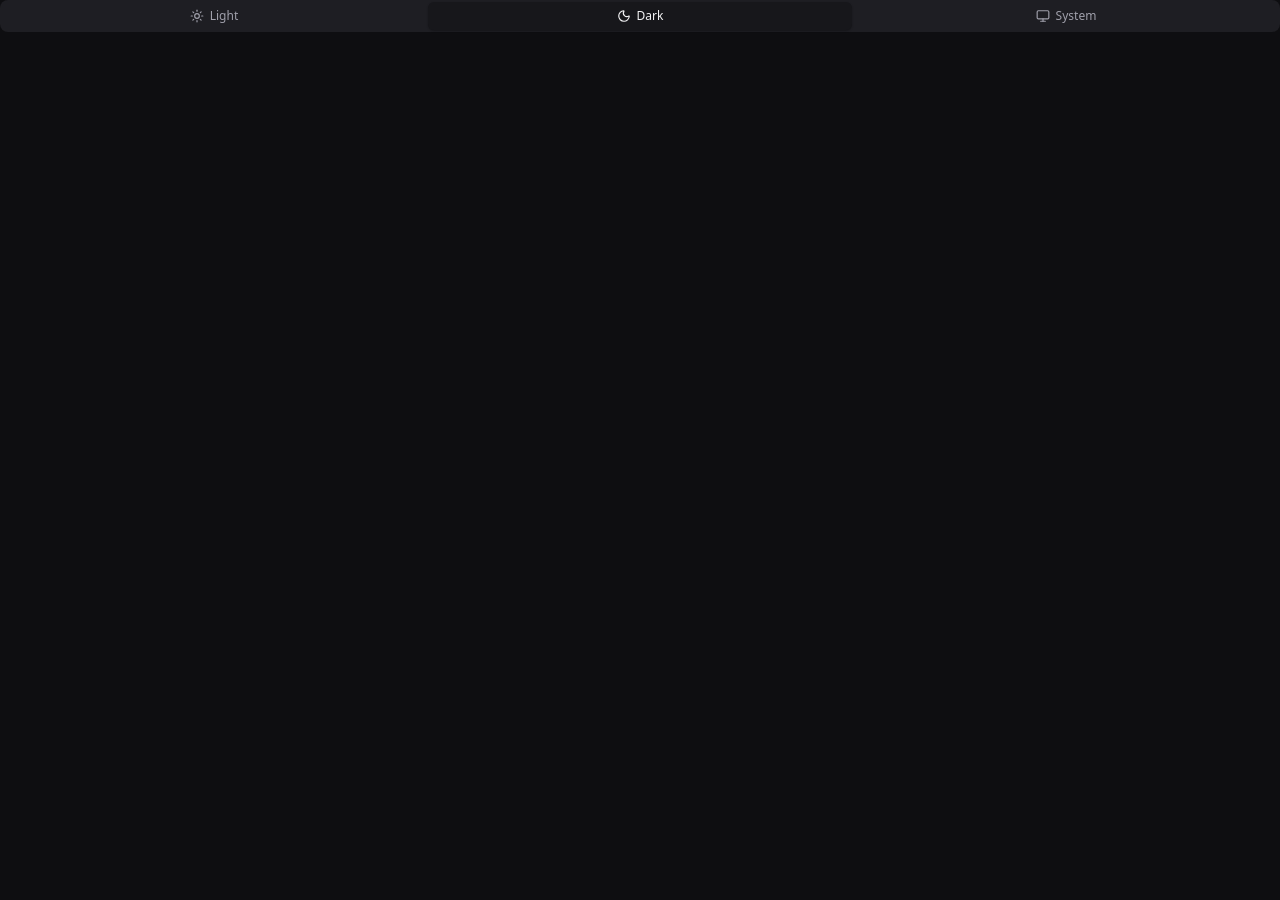
Test case: ThemeToggle › offers light, dark and system in the segmented control
Expected: the radio button labelled "Dark" is checked, left=428, top=2, right=852, bottom=30
Click the radio button labelled "System" at [1066, 16], box left=854, top=2, right=1278, bottom=30
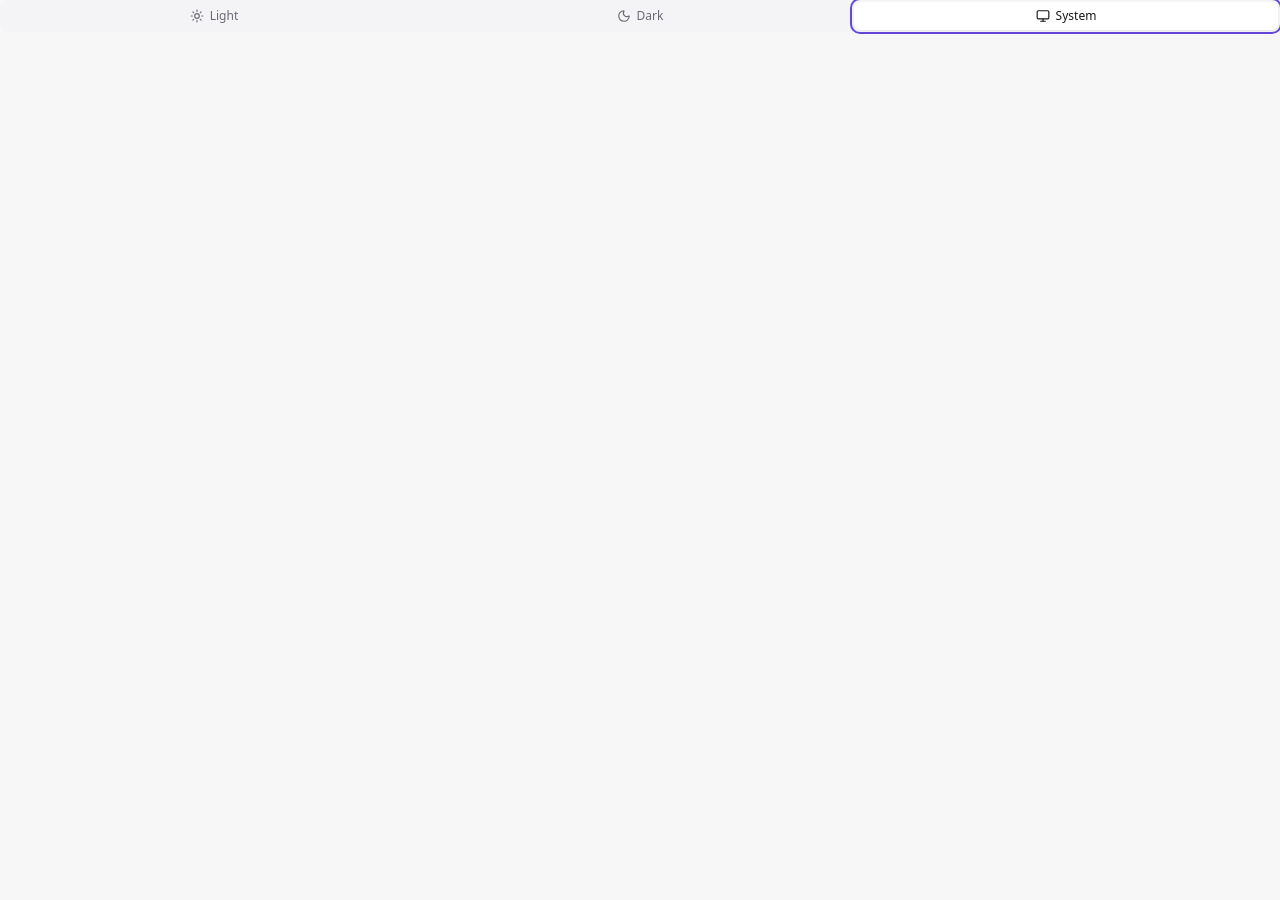
Now the radio button labelled "System" is checked, box left=854, top=2, right=1278, bottom=30
